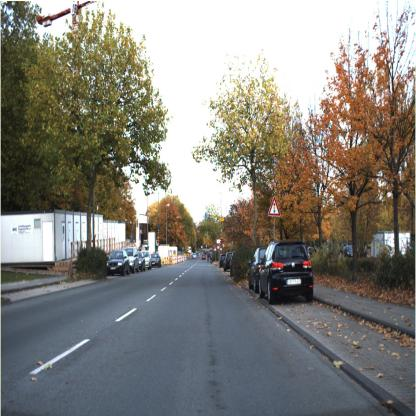traffic signal: (267, 195, 281, 216)
